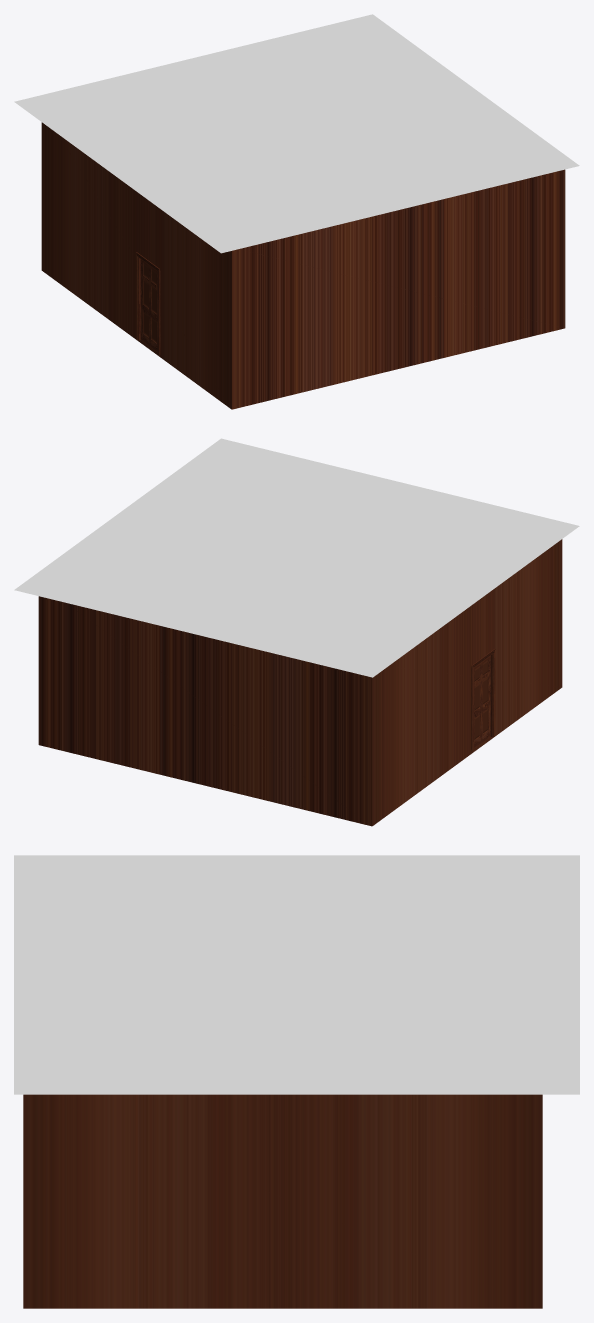
File: duy24.glb
3 views of the same model, one above another, from view 1: azimuth 30°, elevation 25°; view 2: azimuth 150°, elevation 25°; view 3: azimuth 270°, elevation 25° (orthographic). The views are drawn at different scales.
Parts seen in each view (by area): view 1: tuong, Plane, basic_door; view 2: tuong, Plane, basic_door; view 3: Plane, tuong.
Part boxes in pixels (<box>): tuong: <box>41,122,565,409</box>; Plane: <box>14,14,579,253</box>; basic_door: <box>136,252,160,355</box>; tuong: <box>38,539,562,826</box>; Plane: <box>14,438,579,677</box>; basic_door: <box>471,649,495,752</box>; Plane: <box>14,855,579,1094</box>; tuong: <box>23,1094,542,1308</box>.
Bounding box in the file's own units: 178 × 77.98 × 178.
11 materials, 5 textured.
